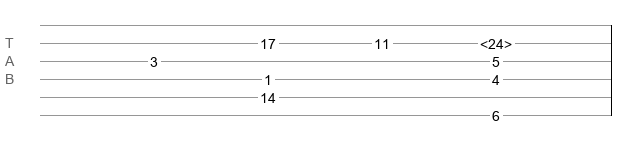1: (264, 72, 272, 82)
11: (374, 36, 390, 46)
14: (260, 90, 276, 100)
17: (260, 36, 276, 46)
3: (150, 54, 158, 64)
4: (492, 72, 500, 82)
5: (492, 54, 500, 64)
6: (492, 108, 500, 118)
harmonic: (480, 36, 512, 46)
